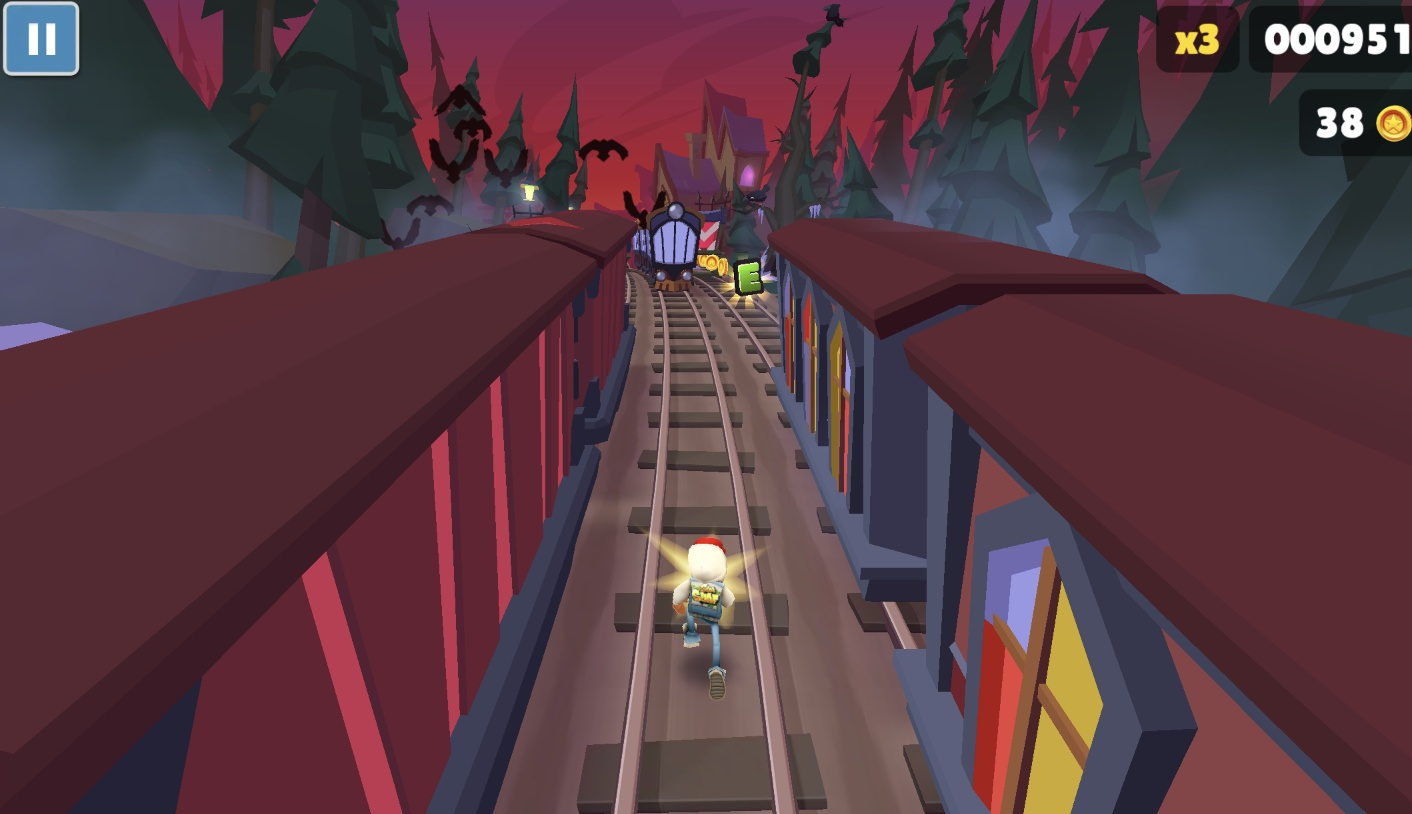overhead_barrier: (697, 212, 726, 274)
train: (0, 218, 624, 814), (811, 252, 1412, 814), (636, 202, 707, 297)
